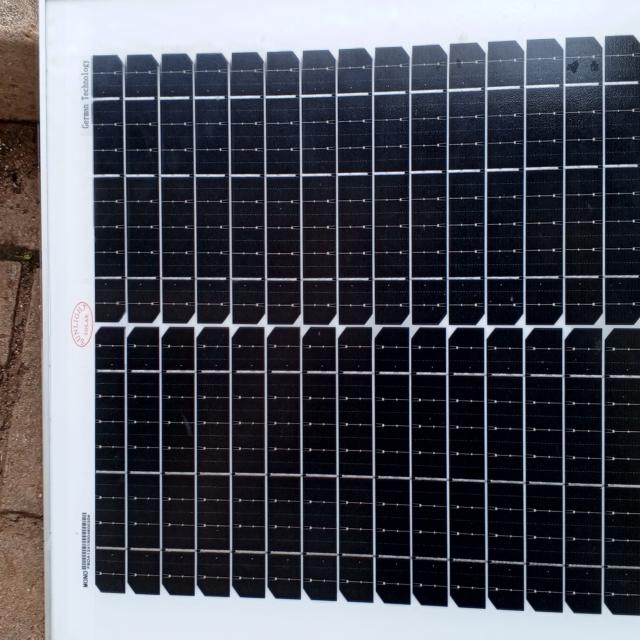Clean: (67, 21, 640, 623)
